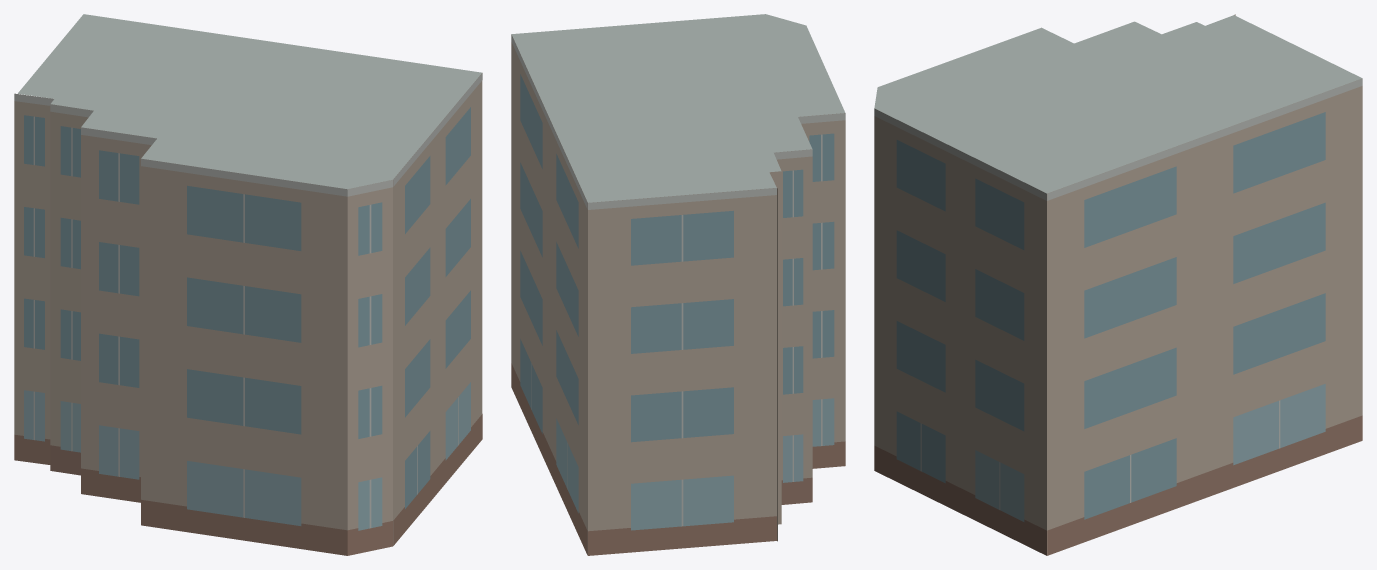
Rendered from survey-upis-32774418.glb.
The picture shows the model from 3 angles, left to right: view 1: azimuth 30°, elevation 25°; view 2: azimuth 150°, elevation 25°; view 3: azimuth 270°, elevation 25°; orthographic projection. The views are drawn at different scales.
Visible parts, largest first — view 1: survey-upis-32774418.tmp; view 2: survey-upis-32774418.tmp; view 3: survey-upis-32774418.tmp.
Boxes of the visible parts, box(x1,y1,x2,y2) form: survey-upis-32774418.tmp: box(14, 14, 482, 555); survey-upis-32774418.tmp: box(511, 14, 845, 555); survey-upis-32774418.tmp: box(874, 14, 1362, 555).
Bounding box in the file's own units: 12.66 × 11.9 × 14.55.
